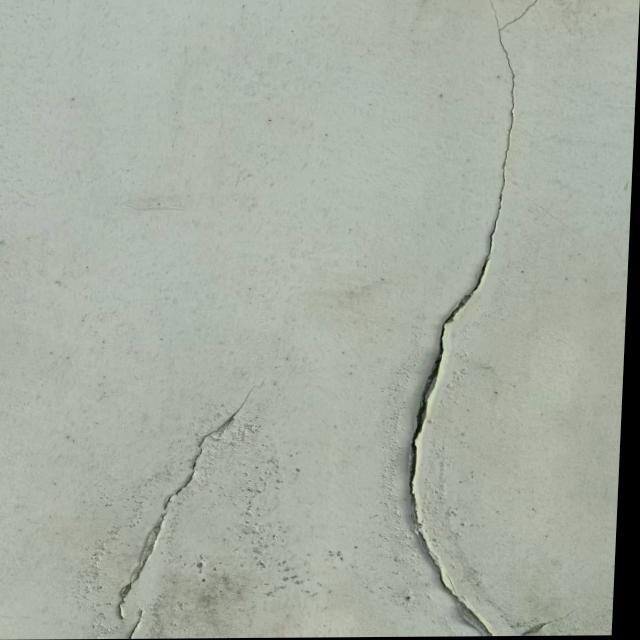crack: (399, 0, 552, 631), (103, 376, 269, 637)
